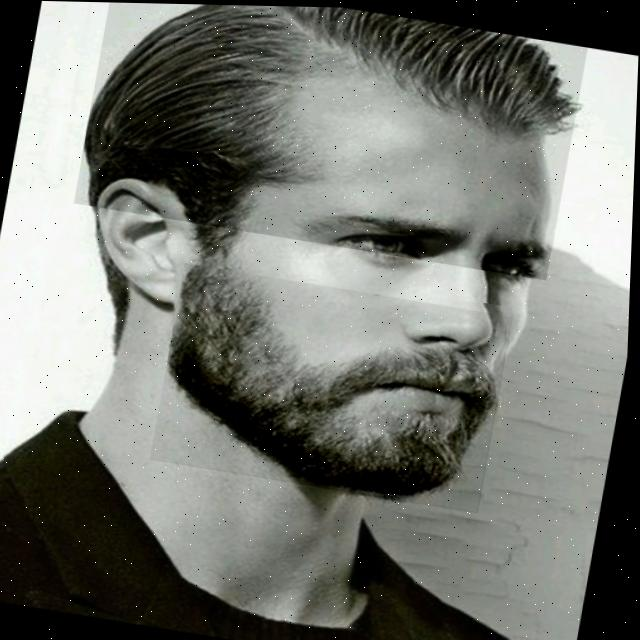beard: (173, 268, 501, 496)
hair: (87, 4, 577, 226)
